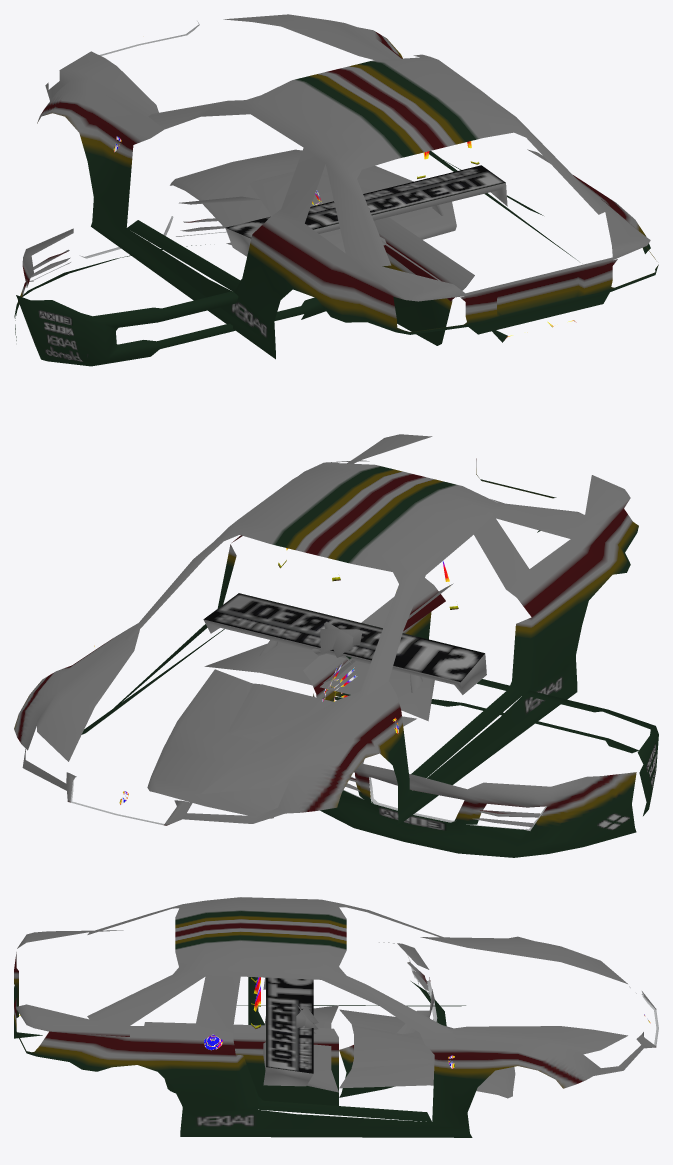
File: car-CUPE_Car5.glb
3 views of the same model, one above another, from view 1: azimuth 30°, elevation 25°; view 2: azimuth 150°, elevation 25°; view 3: azimuth 270°, elevation 25° (orthographic). The views are drawn at different scales.
Visible parts, largest first — view 1: CUPE_Car5; view 2: CUPE_Car5; view 3: CUPE_Car5.
Boxes of the visible parts, x1=… form: CUPE_Car5: x1=14, y1=14, x2=658, y2=366; CUPE_Car5: x1=14, y1=434, x2=658, y2=857; CUPE_Car5: x1=14, y1=897, x2=658, y2=1137.
Bounding box in the file's own units: 3.26 × 1.45 × 4.69.
16 materials, 16 textured.
